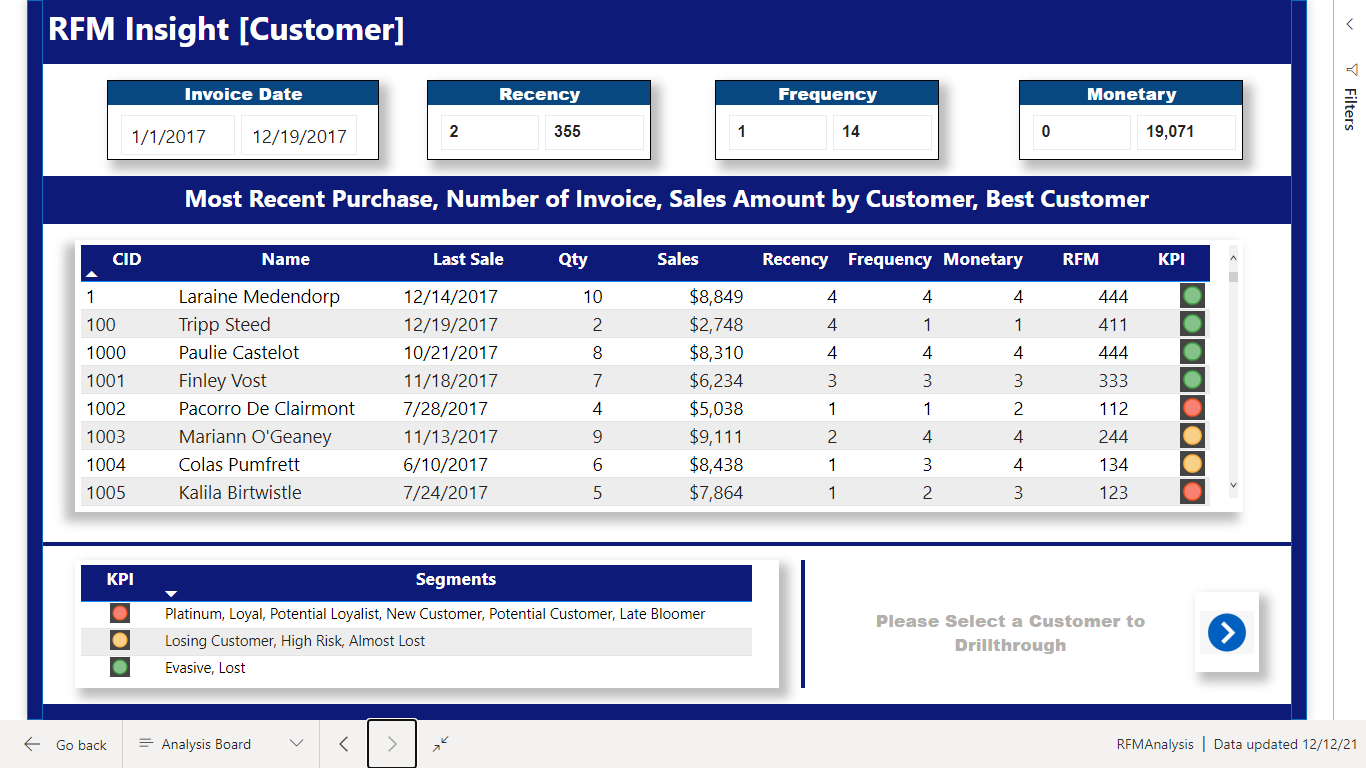

This screenshot's page, from the dashboard's own definition file:
{"tool":"powerbi","page":{"name":"Analysis Board","canvas":[1280,720],"ordinal":1},"visuals":[{"type":"slicer","title":"Recency","fields":{"Values":["RFM Table.Recency value"]},"box":[400,80,224,80],"z":0},{"type":"slicer","title":"Frequency","fields":{"Values":["RFM Table.Frequency value"]},"box":[688,80,224,80],"z":1000},{"type":"slicer","title":"Monetary","fields":{"Values":["RFM Table.Monetary value"]},"box":[992,80,224,80],"z":2000},{"type":"slicer","title":"Invoice Date","fields":{"Values":["f-Transactions.transaction_date"]},"box":[80,80,272,80],"z":3000},{"type":"tableEx","fields":{"Values":["RFM_Table.customer_id","f-Transactions.Name","__DAX Measures.LastTransaction Date","__DAX Measures.Total Qty","__DAX Measures.Total Sales","RFM_Table.Recency Score","RFM_Table.Frequency Score","RFM_Table.Monetary Score","RFM_Table.RFM Score","RFM_Table.Rank"]},"box":[48,240,1168,272],"z":4000},{"type":"textbox","box":[16,176,1248,48],"z":5000},{"type":"shape","box":[0,704,1280,16],"z":6000},{"type":"textbox","box":[16,0,1264,64],"z":7000},{"type":"image","box":[1168,592,64,80],"z":9000},{"type":"actionButton","box":[800,592,368,80],"z":10000},{"type":"shape","box":[16,528,1248,32],"z":11000},{"type":"tableEx","fields":{"Values":["Indicator.KPI Indicator","Indicator.Segment"]},"box":[48,560,704,128],"z":12000},{"type":"shape","box":[768,560,16,128],"z":13000},{"type":"shape","box":[0,0,16,720],"z":14000},{"type":"shape","box":[1264,0,16,720],"z":15000}]}

Visuals, with their boxes in screenshot pixels (x1, y1, x2, y2):
"Recency" slicer: (left=410, top=78, right=637, bottom=159)
"Frequency" slicer: (left=702, top=78, right=929, bottom=159)
"Monetary" slicer: (left=1011, top=78, right=1238, bottom=159)
"Invoice Date" slicer: (left=85, top=78, right=361, bottom=159)
tableEx - RFM_Table.customer_id x f-Transactions.Name: (left=52, top=240, right=1238, bottom=516)
textbox: (left=20, top=175, right=1287, bottom=224)
shape: (left=4, top=711, right=1303, bottom=727)
textbox: (left=20, top=0, right=1303, bottom=61)
image: (left=1189, top=597, right=1254, bottom=679)
actionButton: (left=816, top=597, right=1189, bottom=679)
shape: (left=20, top=532, right=1287, bottom=565)
tableEx - Indicator.KPI Indicator x Indicator.Segment: (left=52, top=565, right=767, bottom=695)
shape: (left=783, top=565, right=799, bottom=695)
shape: (left=4, top=0, right=20, bottom=727)
shape: (left=1287, top=0, right=1303, bottom=727)
